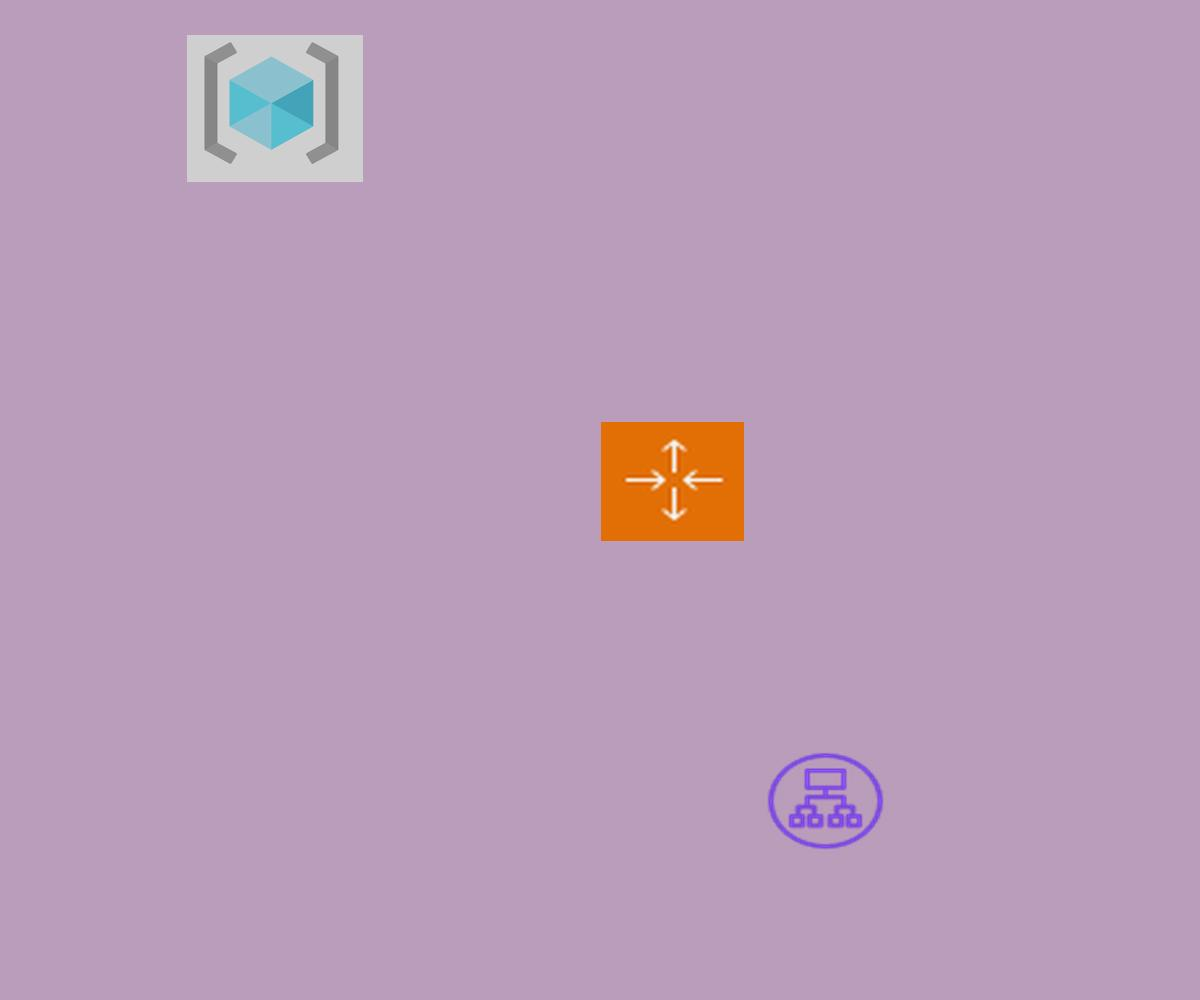AWS-Res_Elastic-Load-Balancing_Application-Load-Balancer: (763, 749, 888, 853)
AWS-Scaling-group: (601, 422, 744, 541)
Azure_resource_group: (187, 35, 363, 182)
